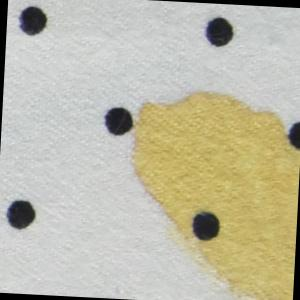Oil Stain: (122, 86, 300, 300)
